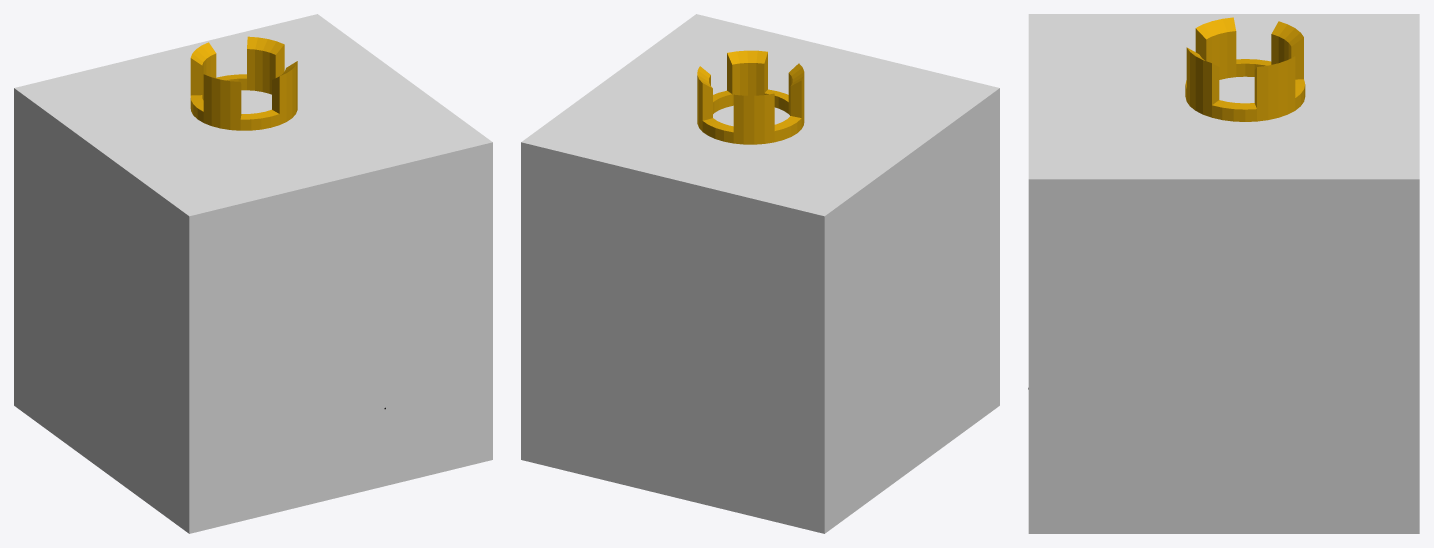
Rendered from kingslime.fbx.
3 views of the same model, side by side, from view 1: azimuth 30°, elevation 25°; view 2: azimuth 150°, elevation 25°; view 3: azimuth 270°, elevation 25° (orthographic). The views are drawn at different scales.
Visible parts, largest first — view 1: Cube.001, Cylinder; view 2: Cube.001, Cylinder; view 3: Cube.001, Cylinder.
Part boxes in pixels (left/top/right/bottom): Cube.001: left=14, top=14, right=492, bottom=533; Cylinder: left=190, top=36, right=297, bottom=130; Cube.001: left=521, top=14, right=999, bottom=533; Cylinder: left=697, top=50, right=804, bottom=144; Cube.001: left=1028, top=14, right=1419, bottom=533; Cylinder: left=1185, top=17, right=1305, bottom=121.
Bounding box in the file's own units: 1800 × 2077 × 1802.
